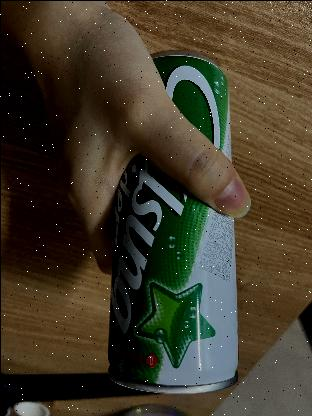Can: (108, 50, 238, 390), (148, 48, 234, 161)
